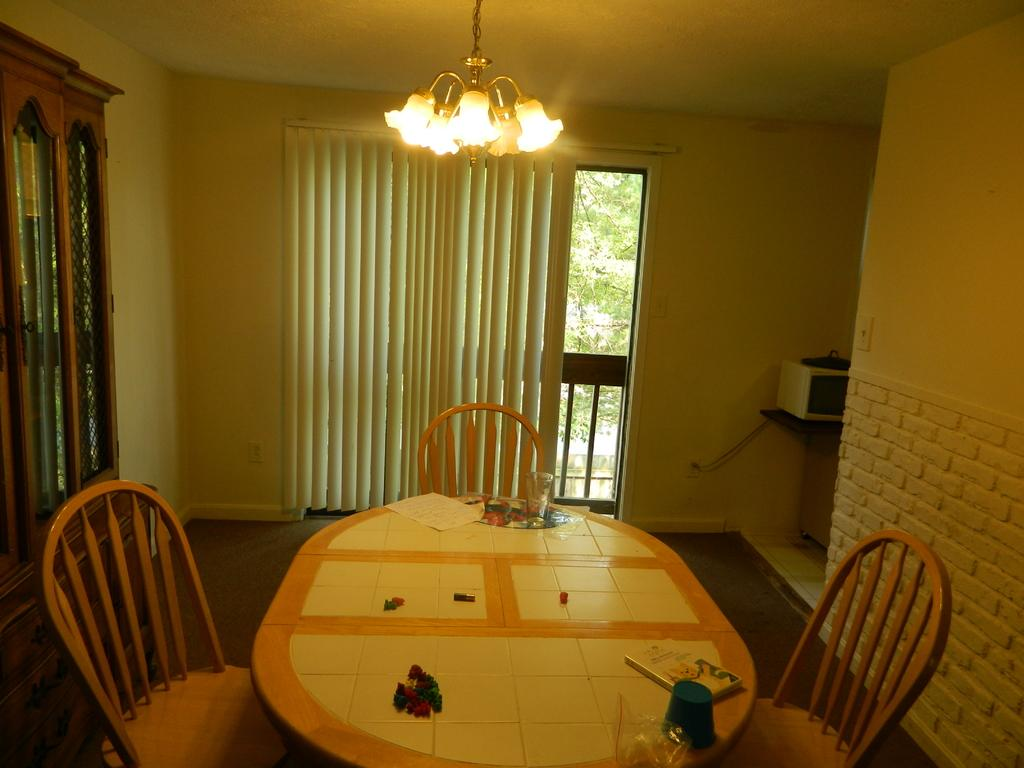Book: (623, 639, 742, 700)
Chair: (39, 478, 288, 767), (718, 527, 952, 767), (417, 402, 543, 500)
Computer-monitor: (774, 353, 851, 423)
